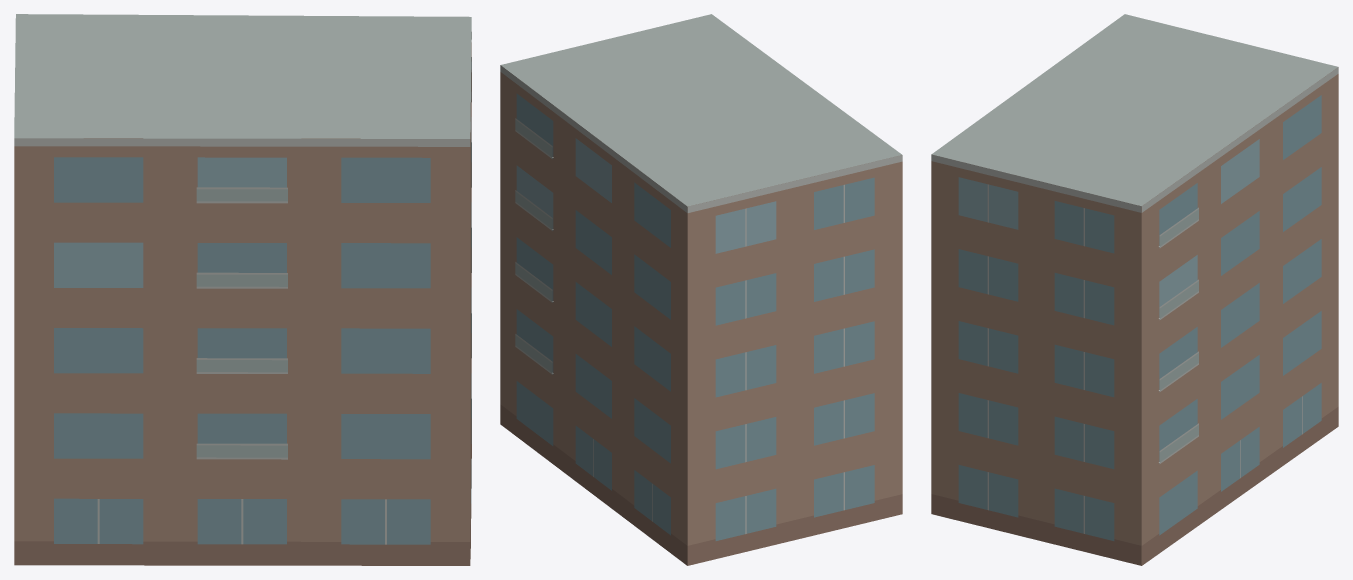
Rendered from survey-upis-33005935.glb.
3 renders of one model, left to right at view 1: azimuth 30°, elevation 25°; view 2: azimuth 150°, elevation 25°; view 3: azimuth 270°, elevation 25°, orthographic. The views are drawn at different scales.
Parts seen in each view (by area): view 1: survey-upis-33005935.tmp; view 2: survey-upis-33005935.tmp; view 3: survey-upis-33005935.tmp.
Part boxes in pixels (box(x1,y1,x2,y2)): survey-upis-33005935.tmp: box(14, 14, 471, 565); survey-upis-33005935.tmp: box(500, 14, 902, 565); survey-upis-33005935.tmp: box(931, 14, 1338, 565).
Bounding box in the file's own units: 15.03 × 13.1 × 13.45.
